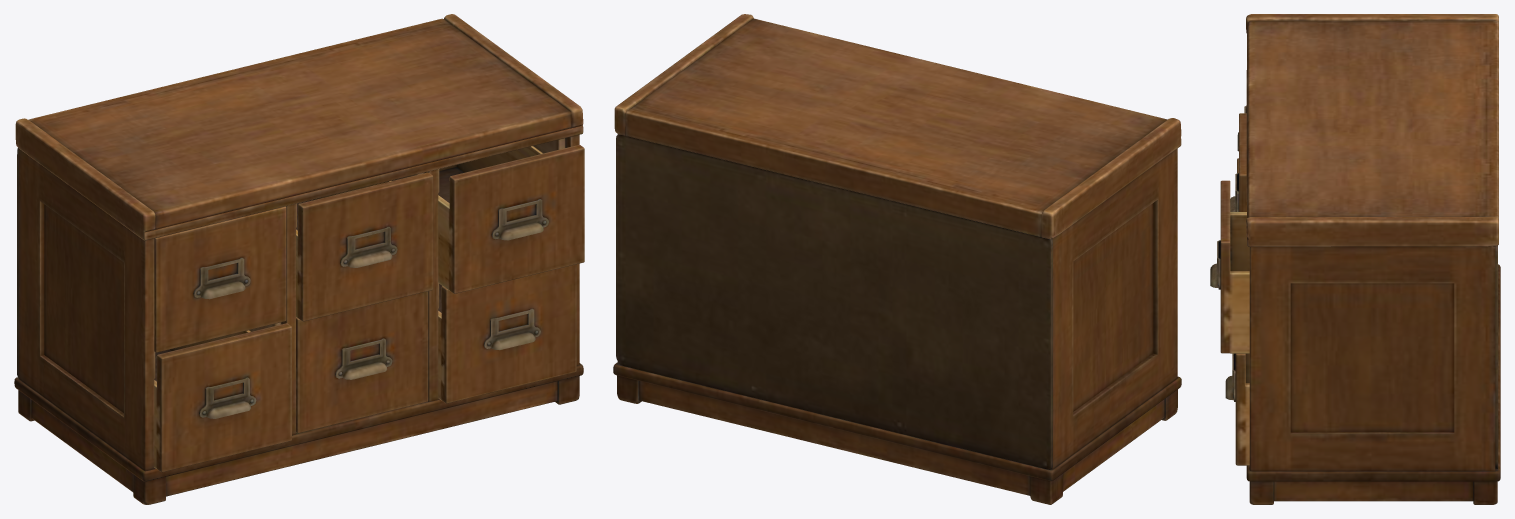
Rendered from vintage-wooden-drawer-01.glb.
The picture shows the model from 3 angles, left to right: view 1: azimuth 30°, elevation 25°; view 2: azimuth 150°, elevation 25°; view 3: azimuth 270°, elevation 25°; orthographic projection. The views are drawn at different scales.
Parts seen in each view (by area): view 1: vintage_wooden_drawer_01_body; view 2: vintage_wooden_drawer_01_body; view 3: vintage_wooden_drawer_01_body.
Part boxes in pixels (left/top/right/bottom): vintage_wooden_drawer_01_body: left=14, top=14, right=584, bottom=504; vintage_wooden_drawer_01_body: left=613, top=14, right=1181, bottom=504; vintage_wooden_drawer_01_body: left=1210, top=14, right=1500, bottom=504.
Size of the model in its own units: 1.72 by 1.09 by 1.01.
1 material, 1 textured.
